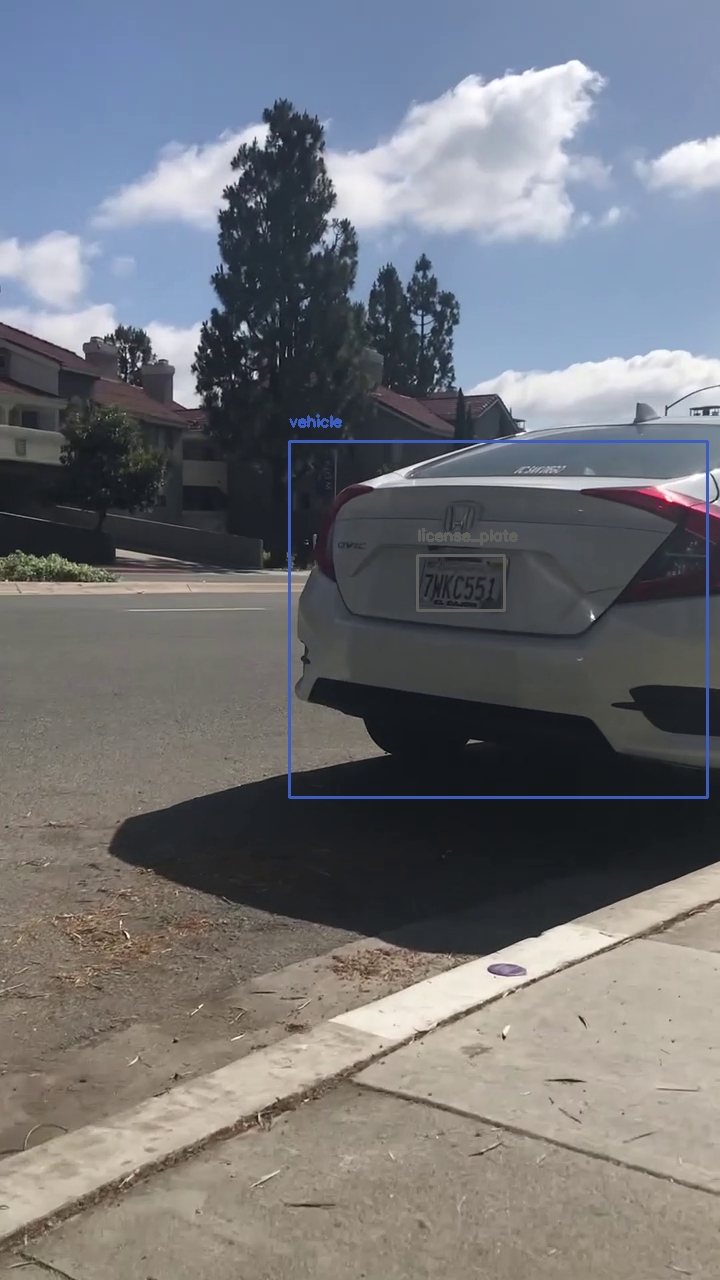license_plate: (417, 555, 504, 610)
vehicle: (289, 441, 707, 797)
